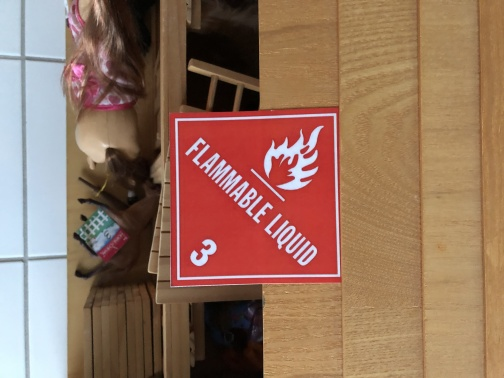FlammableLiquid: (170, 113, 338, 278)
